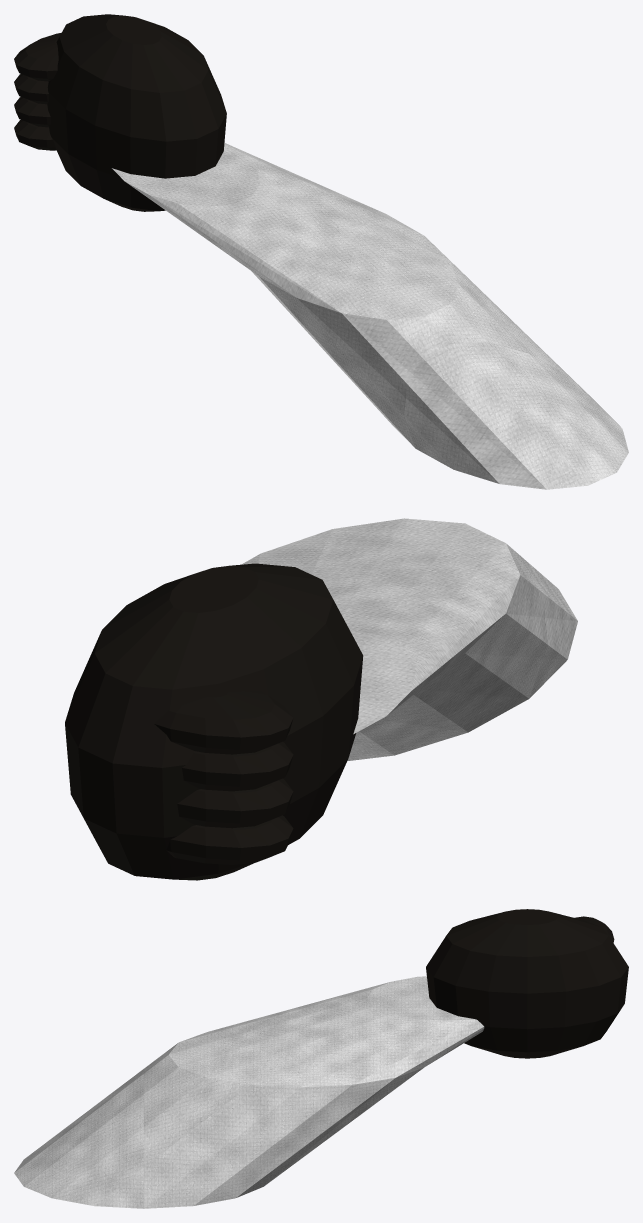
The model's file is TriggerHand.obj.
The picture shows the model from 3 angles, top to bottom: view 1: azimuth 30°, elevation 25°; view 2: azimuth 150°, elevation 25°; view 3: azimuth 270°, elevation 25°; orthographic projection. The views are drawn at different scales.
Size of the model in its own units: 0.252 by 0.199 by 0.545.
Materials: 2 (1 with a texture image).
